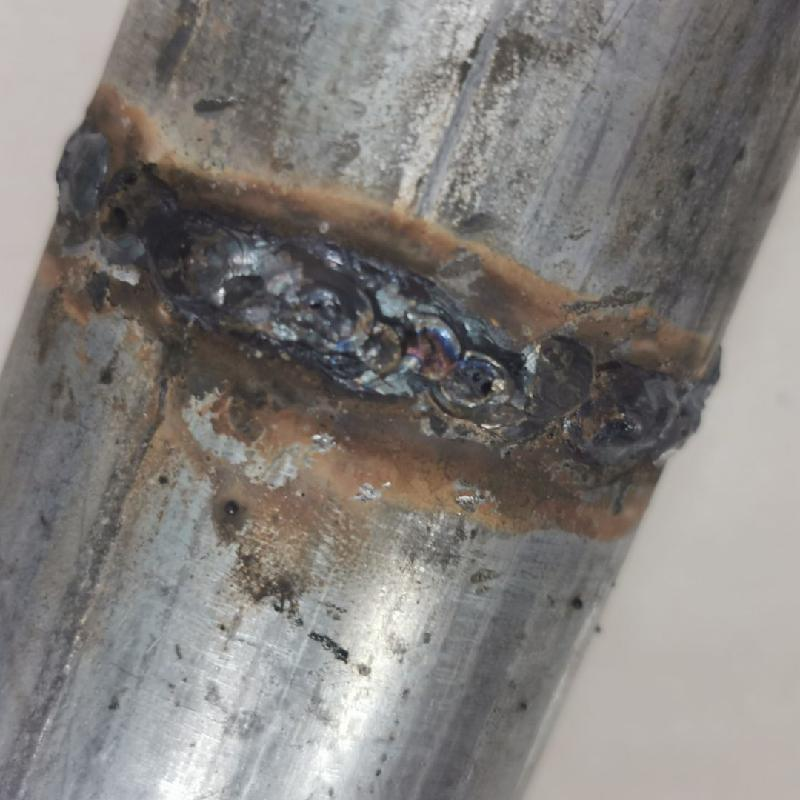Surface_pores: (93, 164, 148, 241), (456, 356, 501, 407)
